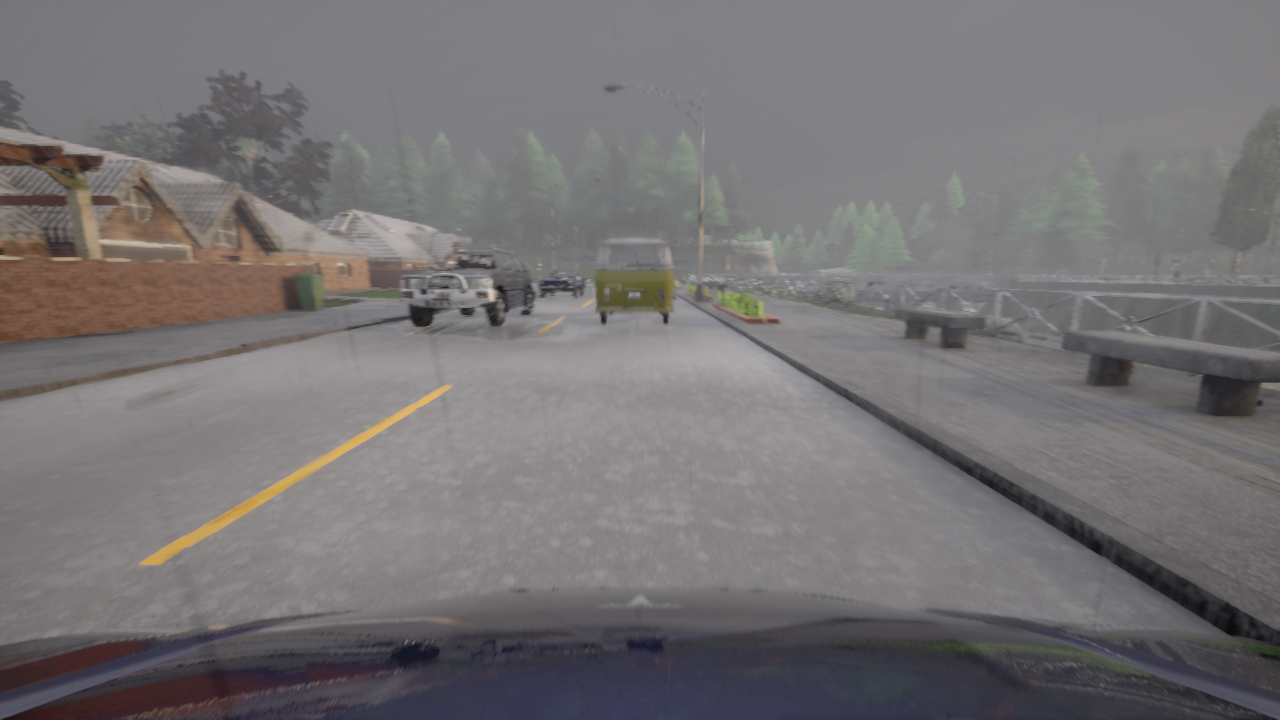cyclist: (0, 588, 1279, 719), (401, 244, 535, 327), (595, 239, 674, 324), (538, 271, 585, 296), (673, 293, 676, 300)
